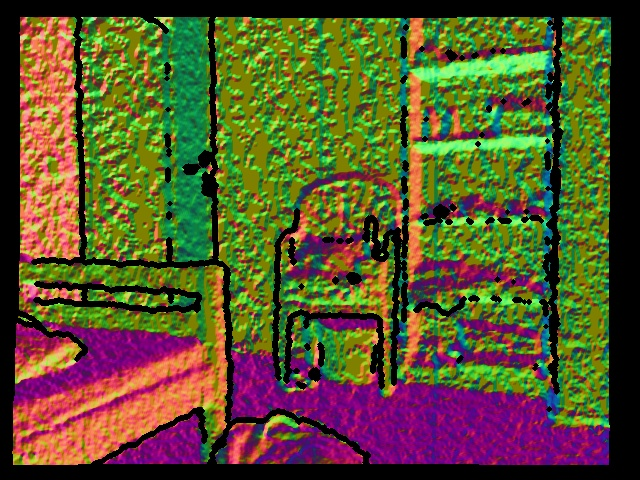station: (352, 214, 379, 280)
